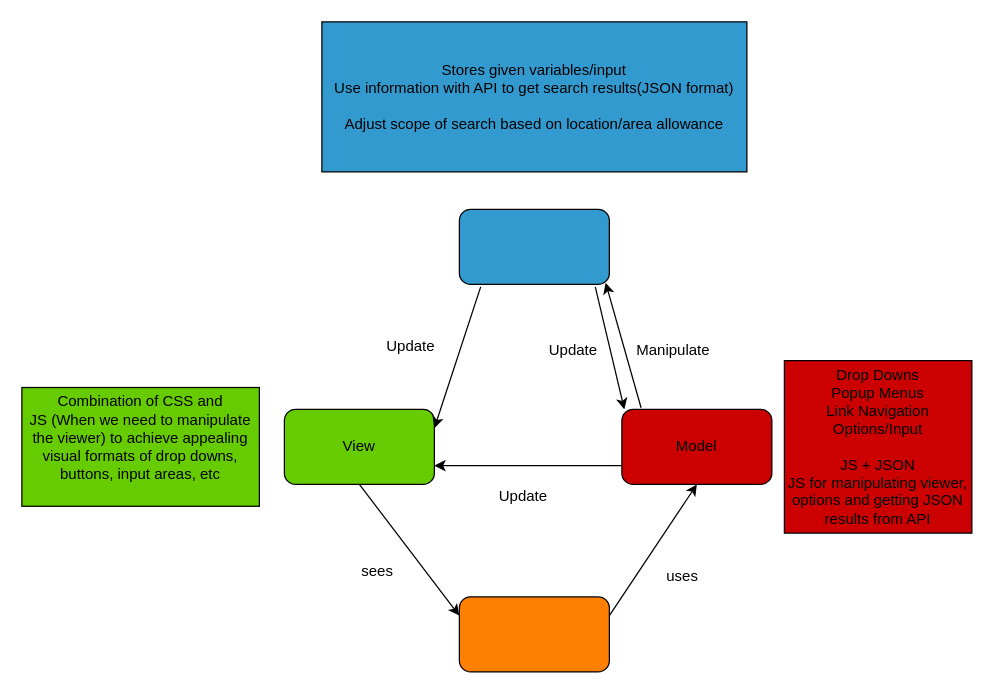
This 994x694 diagram has some shape labels left out. The box of each missing label's shape, as (x1, y1, x2, y2) in pixels:
Controller: (458, 208, 609, 284)
User: (458, 596, 609, 672)
